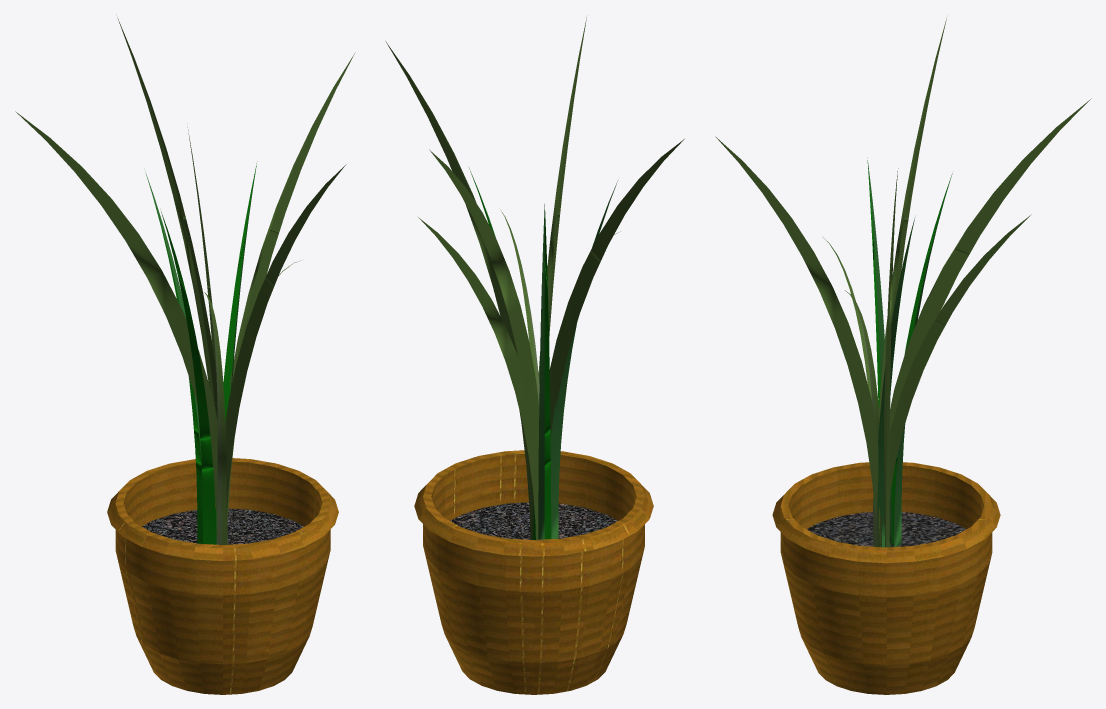
Rendered from Plant.fbx.
3 views of the same model, side by side, from view 1: azimuth 30°, elevation 25°; view 2: azimuth 150°, elevation 25°; view 3: azimuth 270°, elevation 25° (orthographic). The views are drawn at different scales.
Visible parts, largest first — view 1: Component1, Group2, Group6, Group5, Group10, Group3, Group8, Group11, Group9, Group4; view 2: Component1, Group3, Group2, Group11, Group4, Group5, Group10, Group6, Group7; view 3: Component1, Group6, Group3, Group4, Group2, Group5, Group11, Group9, Group10, Group7.
Boxes of the visible parts, x1,y1,x2,y2 form: Component1: [107, 458, 338, 694]; Group2: [15, 111, 226, 524]; Group6: [225, 164, 346, 516]; Group5: [227, 52, 355, 544]; Group10: [161, 211, 216, 544]; Group3: [117, 18, 227, 544]; Group8: [203, 292, 226, 544]; Group11: [145, 172, 202, 543]; Group9: [215, 161, 257, 539]; Group4: [187, 127, 216, 413]; Component1: [414, 450, 653, 694]; Group3: [429, 149, 539, 539]; Group2: [549, 139, 684, 437]; Group11: [538, 204, 551, 539]; Group4: [418, 217, 538, 539]; Group5: [385, 41, 533, 539]; Group10: [550, 181, 617, 538]; Group6: [538, 17, 586, 383]; Group7: [501, 211, 539, 405]; Component1: [772, 462, 1000, 694]; Group6: [715, 136, 878, 516]; Group3: [879, 98, 1091, 546]; Group4: [889, 214, 1031, 500]; Group2: [879, 18, 946, 417]; Group5: [884, 168, 898, 547]; Group11: [891, 173, 952, 546]; Group9: [877, 218, 914, 547]; Group10: [867, 157, 891, 546]; Group7: [845, 290, 881, 546].
Size of the model in its own units: 28.41 by 49.29 by 29.82.
